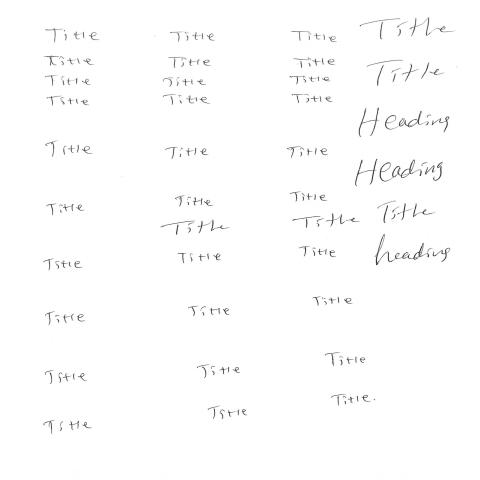Heading: (358, 107, 451, 138), (356, 159, 445, 188), (374, 235, 453, 267), (358, 17, 455, 41), (365, 60, 446, 87), (376, 201, 438, 224), (161, 221, 231, 237), (292, 214, 361, 230), (44, 28, 102, 44), (45, 140, 92, 158), (43, 419, 94, 433), (196, 364, 243, 379), (45, 370, 89, 386), (325, 353, 368, 369), (43, 75, 91, 89), (171, 30, 217, 44), (164, 147, 209, 161), (290, 31, 338, 44), (168, 57, 212, 71), (45, 312, 86, 327), (208, 406, 249, 421), (44, 55, 95, 67), (164, 94, 210, 107), (177, 252, 223, 265), (162, 77, 209, 89), (289, 93, 336, 105), (298, 246, 338, 260), (188, 305, 231, 318), (286, 146, 328, 159), (332, 394, 371, 408), (289, 191, 330, 204), (175, 195, 213, 209), (45, 95, 89, 107), (45, 204, 87, 216), (312, 296, 353, 308), (293, 58, 337, 69), (289, 76, 332, 86), (42, 260, 83, 270)
